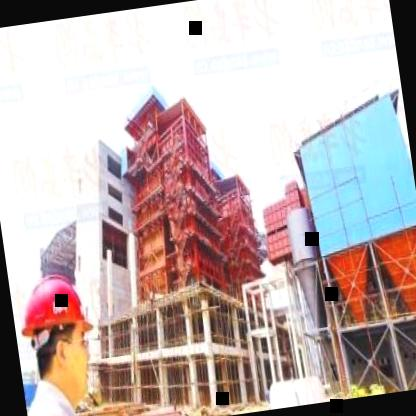helmet: (7, 256, 105, 402)
